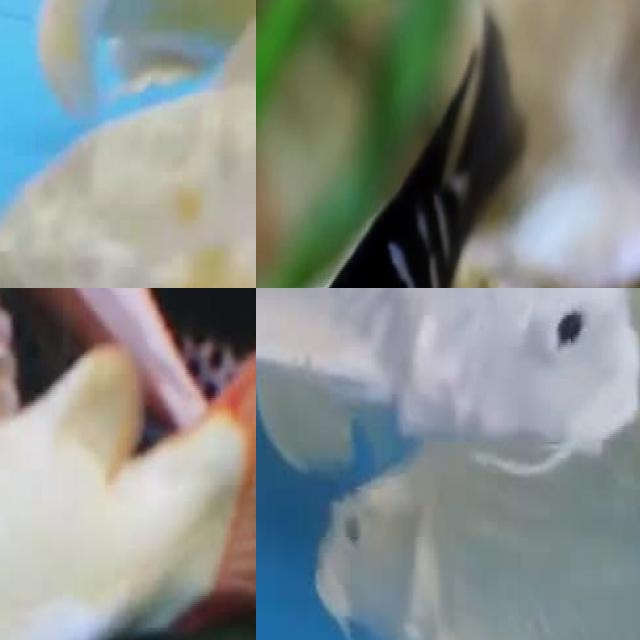fish: (0, 0, 256, 288), (256, 288, 635, 467), (0, 288, 248, 419)
